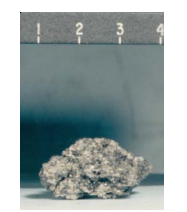Basalt: (37, 125, 157, 198)
